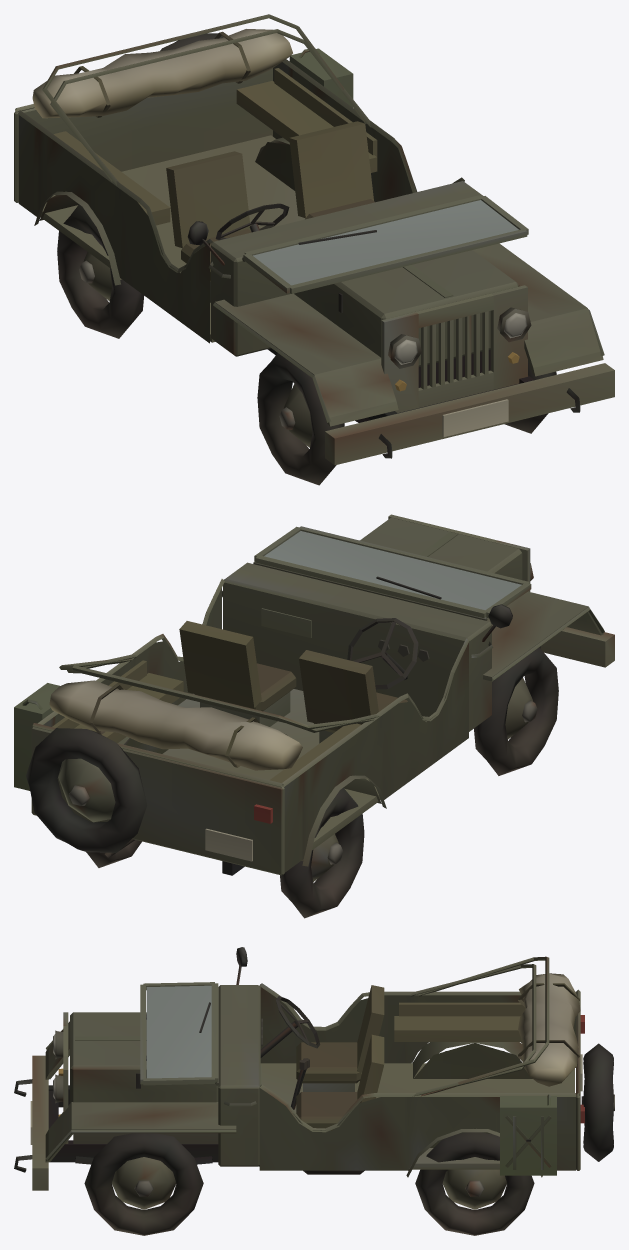
File: jeep_v2.glb
3 views of the same model, one above another, from view 1: azimuth 30°, elevation 25°; view 2: azimuth 150°, elevation 25°; view 3: azimuth 270°, elevation 25° (orthographic). The views are drawn at different scales.
Visible parts, largest first — view 1: hb_metal, hb_main, hb_thatch; view 2: hb_metal, hb_main, hb_thatch; view 3: hb_metal, hb_main, hb_thatch.
Boxes of the visible parts, x1,y1,x2,y2 form: hb_metal: (14, 14, 614, 465); hb_main: (53, 31, 556, 485); hb_thatch: (32, 29, 292, 118); hb_metal: (14, 514, 614, 881); hb_main: (26, 531, 558, 918); hb_thatch: (49, 680, 302, 770); hb_metal: (14, 947, 614, 1209); hb_main: (53, 983, 613, 1235); hb_thatch: (518, 973, 580, 1086).
Bounding box in the file's own units: 1.9 × 1.31 × 3.69.
